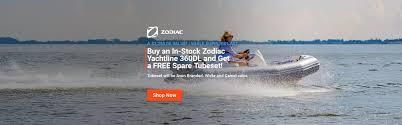boat: (166, 50, 321, 83)
